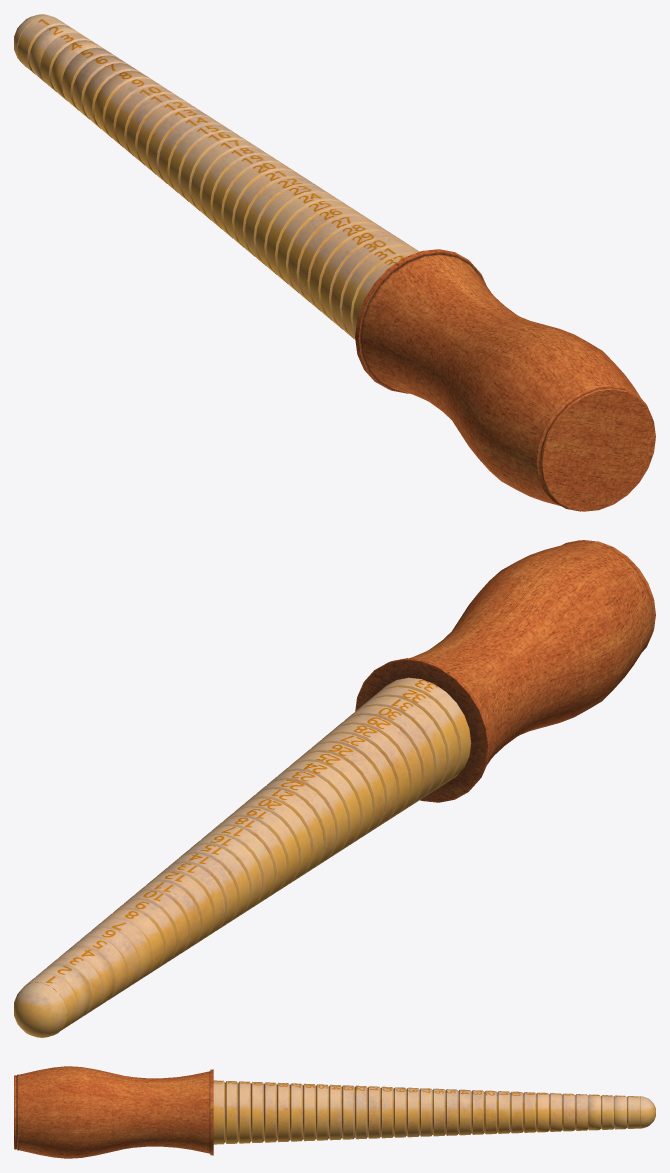
Rendered from 210_JieZhiBang.fbx.
3 renders of one model, top to bottom at view 1: azimuth 30°, elevation 25°; view 2: azimuth 150°, elevation 25°; view 3: azimuth 270°, elevation 25°, orthographic. The views are drawn at different scales.
Visible parts, largest first — view 1: 210_JieZhiBang; view 2: 210_JieZhiBang; view 3: 210_JieZhiBang.
Part boxes in pixels (x1=…): 210_JieZhiBang: x1=14, y1=14, x2=655, y2=511; 210_JieZhiBang: x1=14, y1=540, x2=655, y2=1037; 210_JieZhiBang: x1=14, y1=1066, x2=655, y2=1158.
Size of the model in its own units: 3.45 by 3.45 by 23.85.
